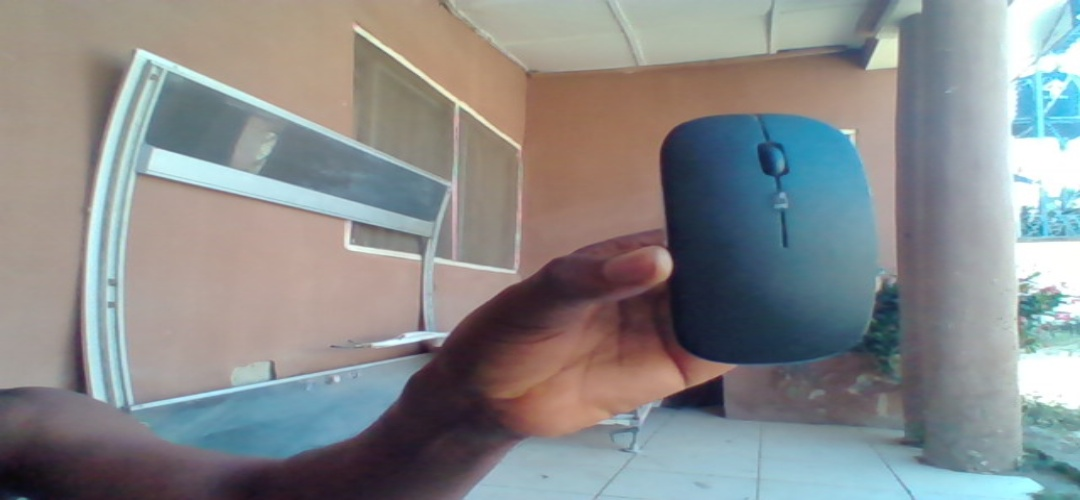wireless_mouse: (658, 106, 879, 366)
